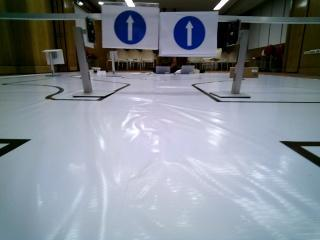straight: (158, 12, 215, 56), (105, 3, 158, 49)
